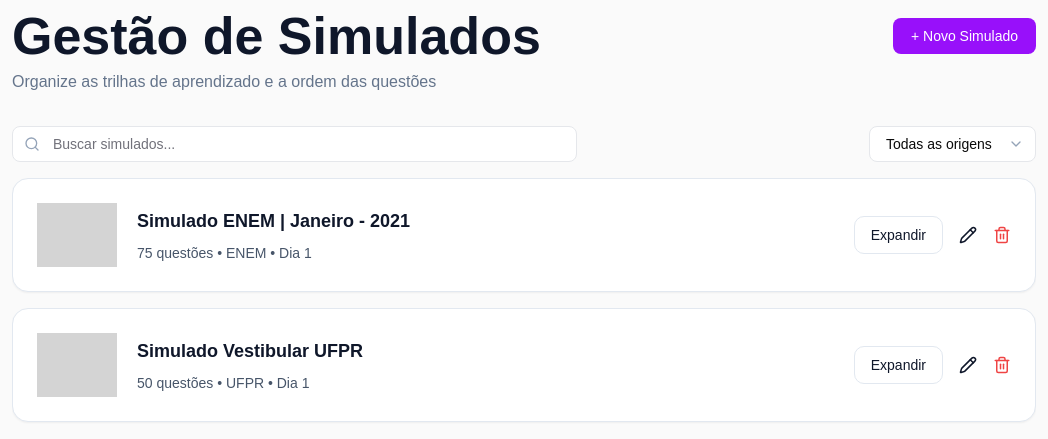
Test case: ExamsPage › deve filtrar simulados pela origem no select
expect the heading "Simulado Vestibular UFPR" is shown: met, box [137, 341, 363, 361]
Select "ENEM" in the dropdown: (952, 144) [869, 126, 1036, 162]
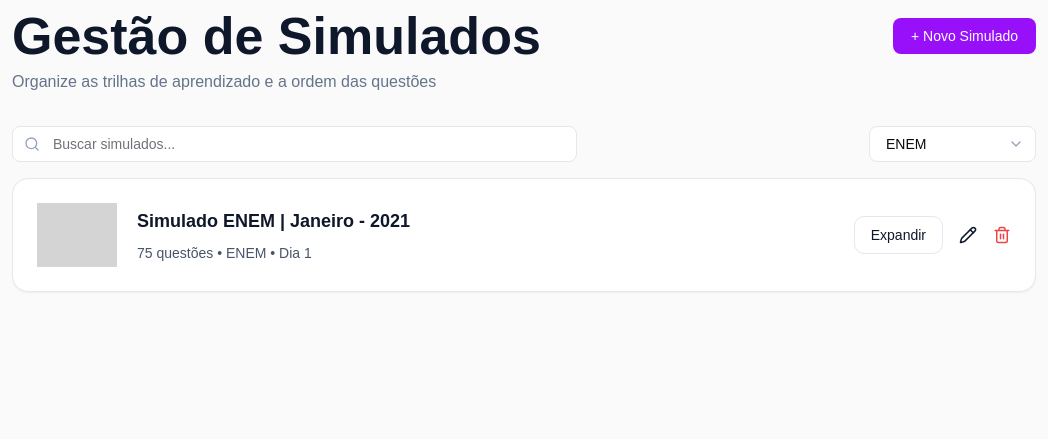
expect the heading "Simulado ENEM | Janeiro - 2021" is shown: met, box [137, 211, 410, 231]
expect the heading "Simulado Vestibular UFPR" is gone: met
